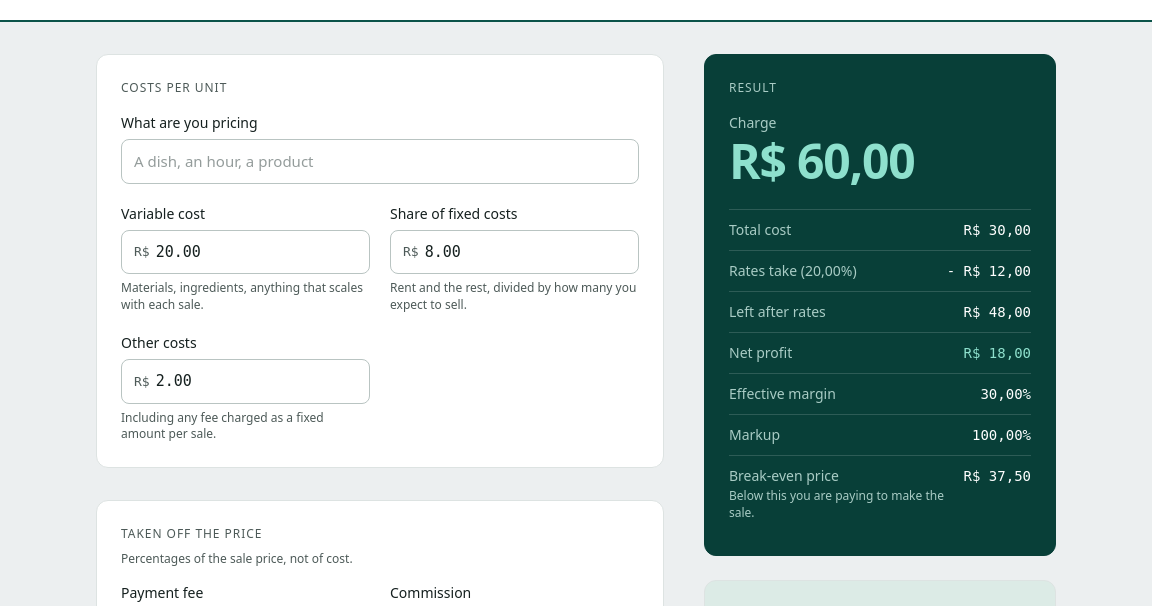
Scenario: the history › restores a saved calculation back into the form
Type "Saved dish" into the field labelled "What are you pricing".
click(380, 161); type("Saved dish")  # box [134,140,626,182]
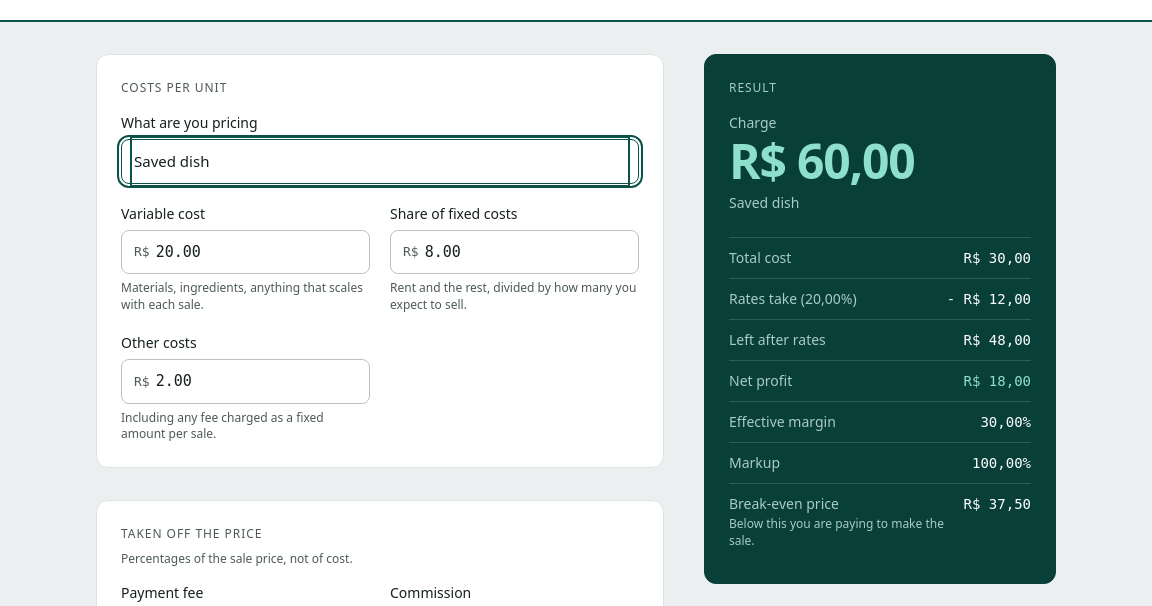
Replace the text in the field labelled "Variable cost" with "25" at (256, 252), box [156,230,357,273]
(page scrolled)
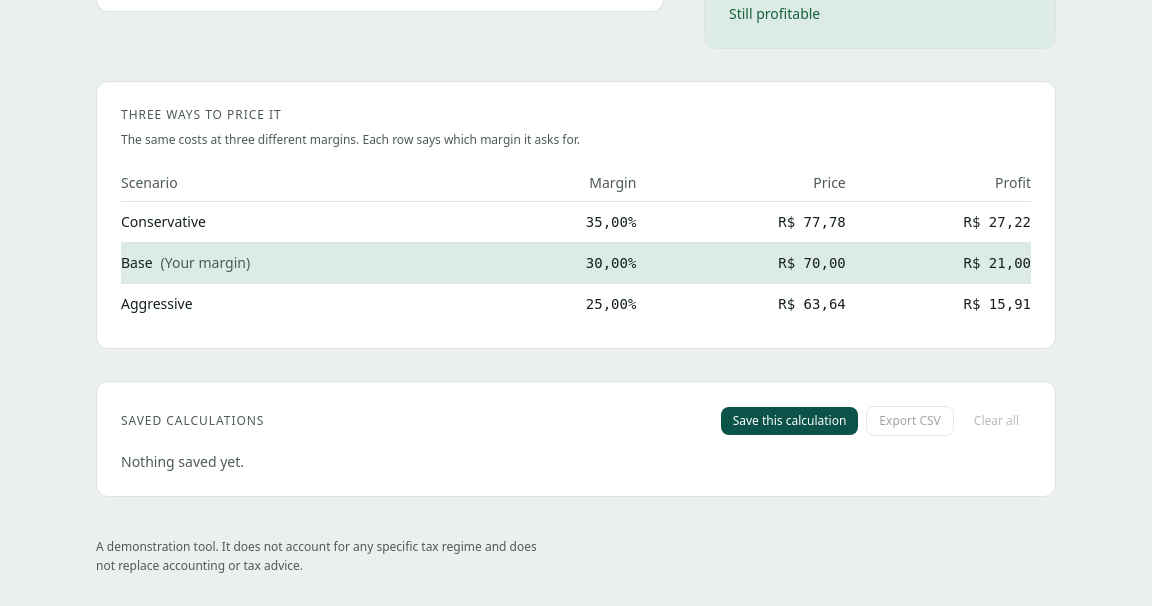
Click the button "Save this calculation".
click(789, 420)  # box [721,406,858,434]
(page scrolled)
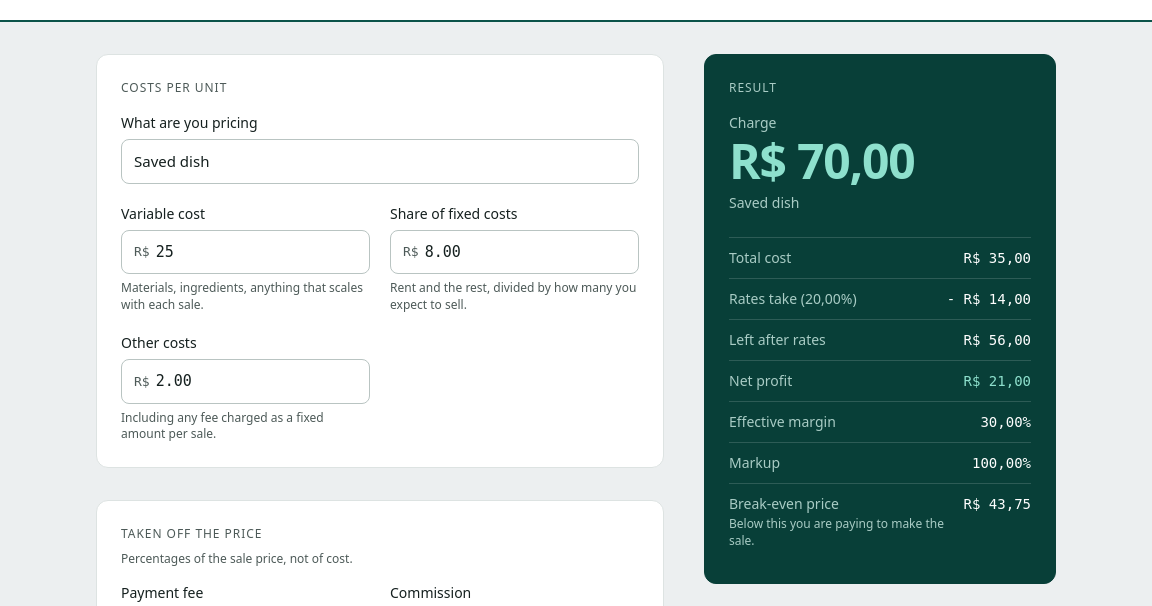
Replace the text in the field labelled "Variable cost" with "99" at (256, 252), box [156,230,357,273]
(page scrolled)
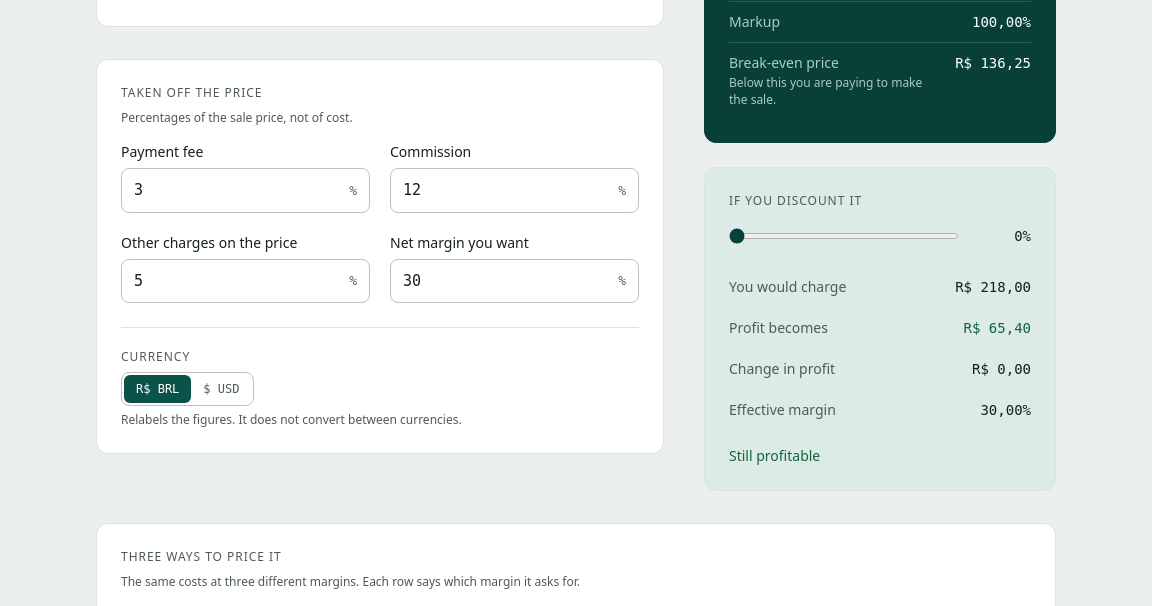
Replace the text in the field labelled "Net margin you want" with "10" at (508, 281), box [403,260,612,302]
(page scrolled)
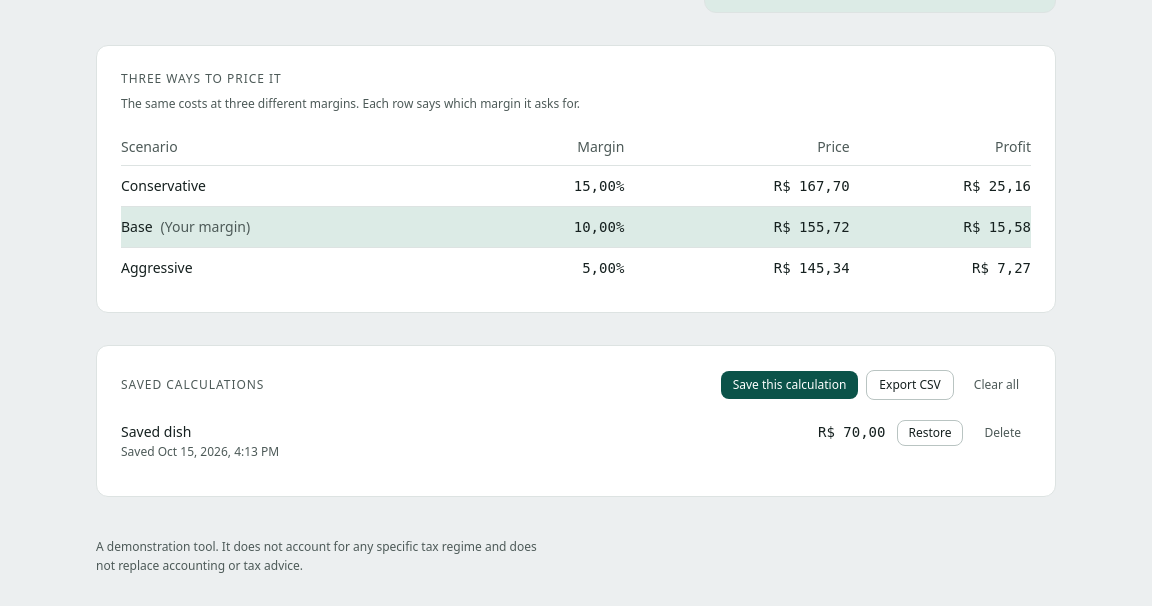
Click the button "Restore".
click(930, 432)  # box [897,420,962,446]
(page scrolled)
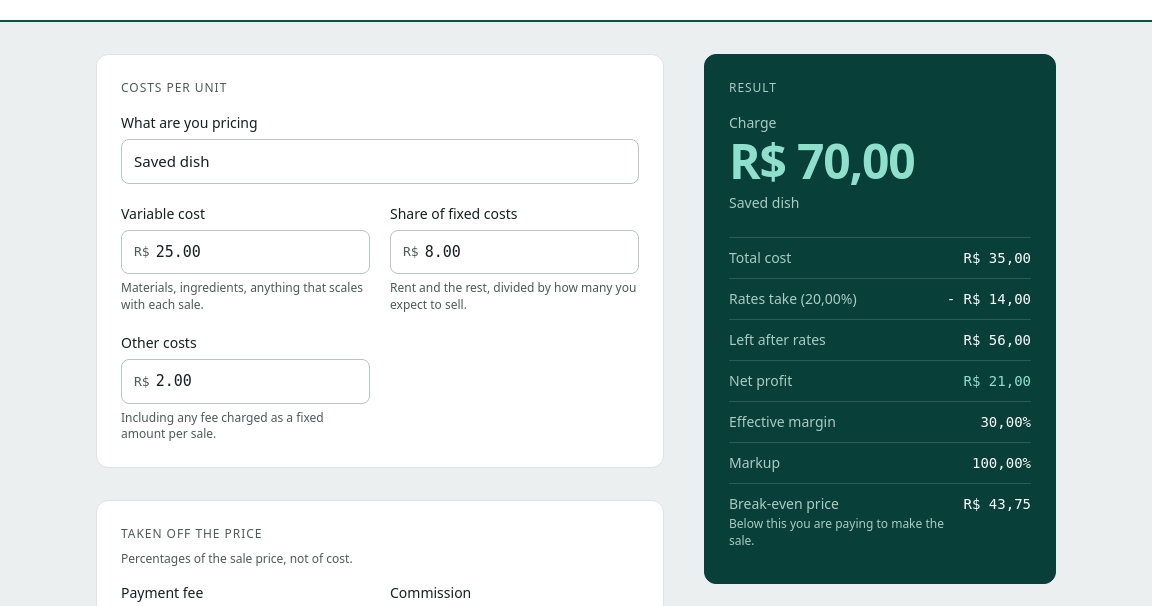
Now the field labelled "Variable cost" holds "25.00", box [156,230,357,273]
Now the text with test id "suggested-price" shows "70,00", box [729,128,914,193]
